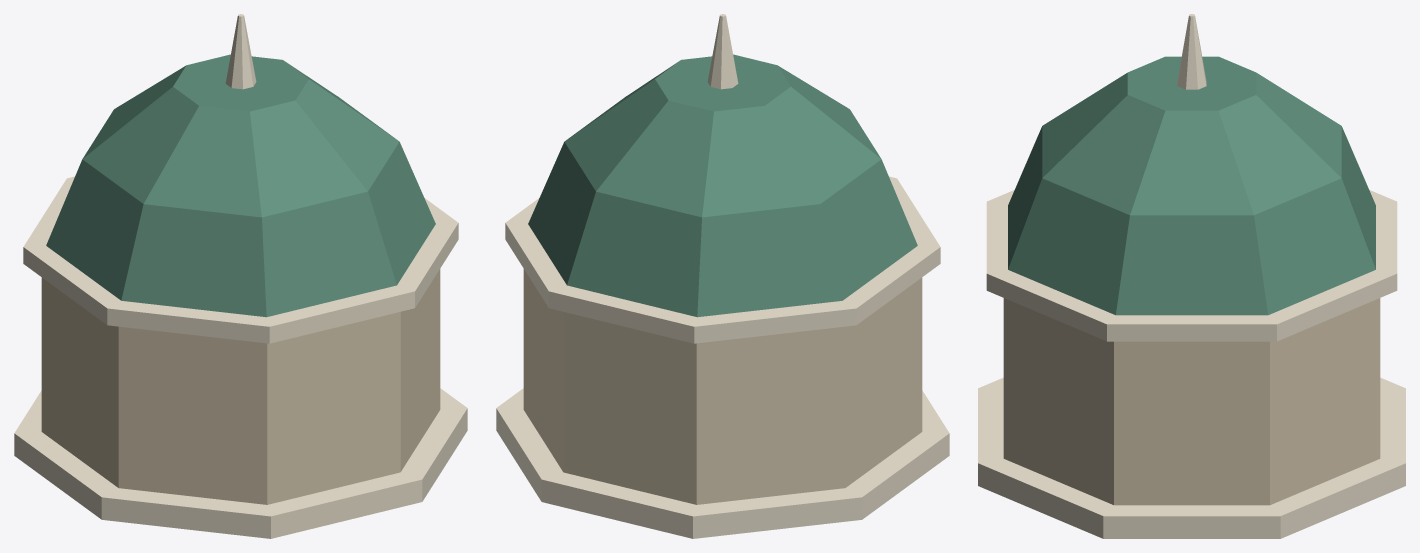
Rendered from corner-tower.glb.
3 views of the same model, side by side, from view 1: azimuth 30°, elevation 25°; view 2: azimuth 150°, elevation 25°; view 3: azimuth 270°, elevation 25° (orthographic).
Visible parts, largest first — view 1: corner-tower; view 2: corner-tower; view 3: corner-tower.
Boxes of the visible parts, x1,y1,x2,y2 form: corner-tower: [14, 14, 467, 538]; corner-tower: [496, 14, 949, 538]; corner-tower: [978, 14, 1405, 538].
Bounding box in the file's own units: 6.8 × 7.6 × 6.8.
